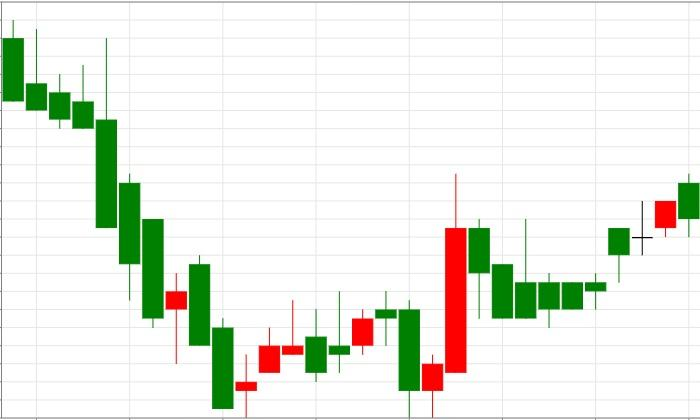evening_star_fall: (235, 291, 420, 419)
